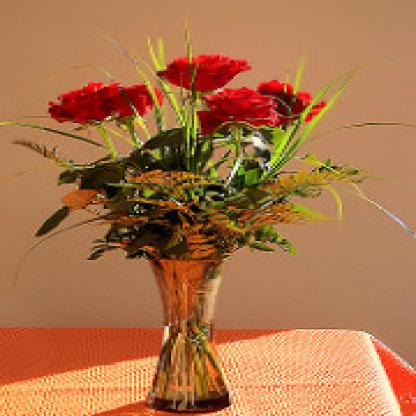ROSE-MAWAR: (38, 43, 345, 148)
